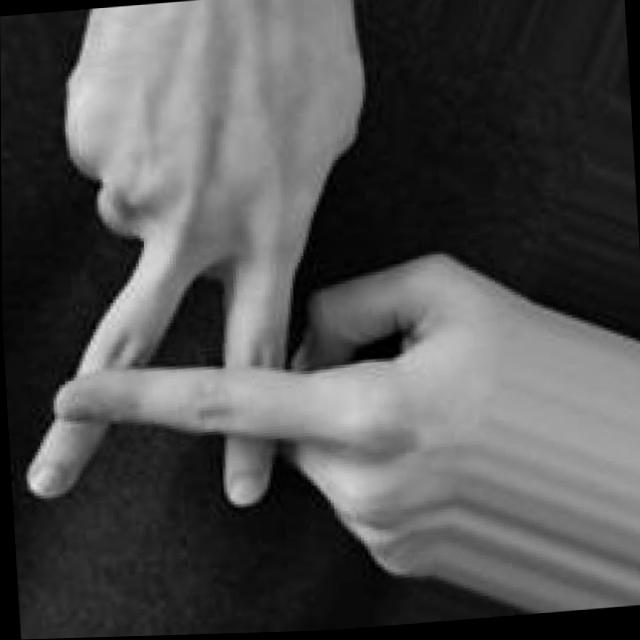A: (2, 62, 468, 622)
